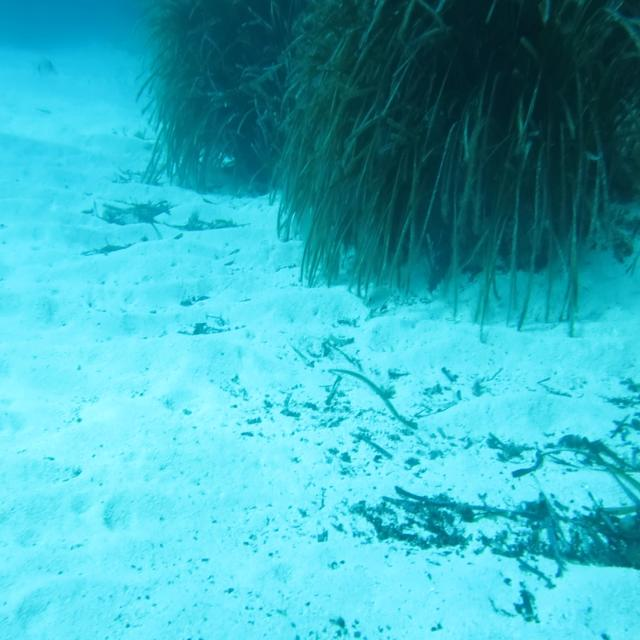AM: (363, 285, 397, 316)
vegetation: (154, 0, 640, 227), (300, 471, 640, 596), (290, 223, 615, 303), (364, 306, 370, 312)
